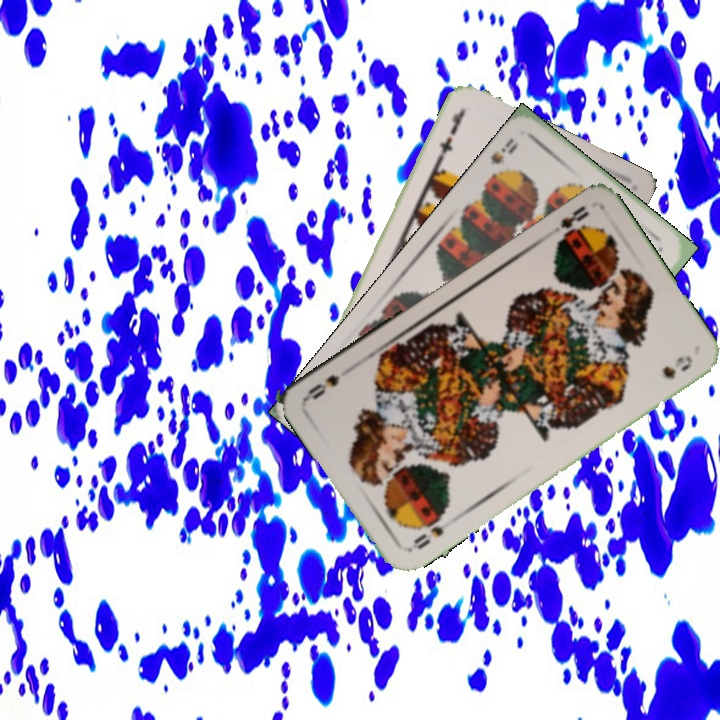E7: (433, 106, 467, 162)
S9: (483, 134, 521, 184)
SO: (542, 201, 593, 240), (408, 513, 446, 552)
